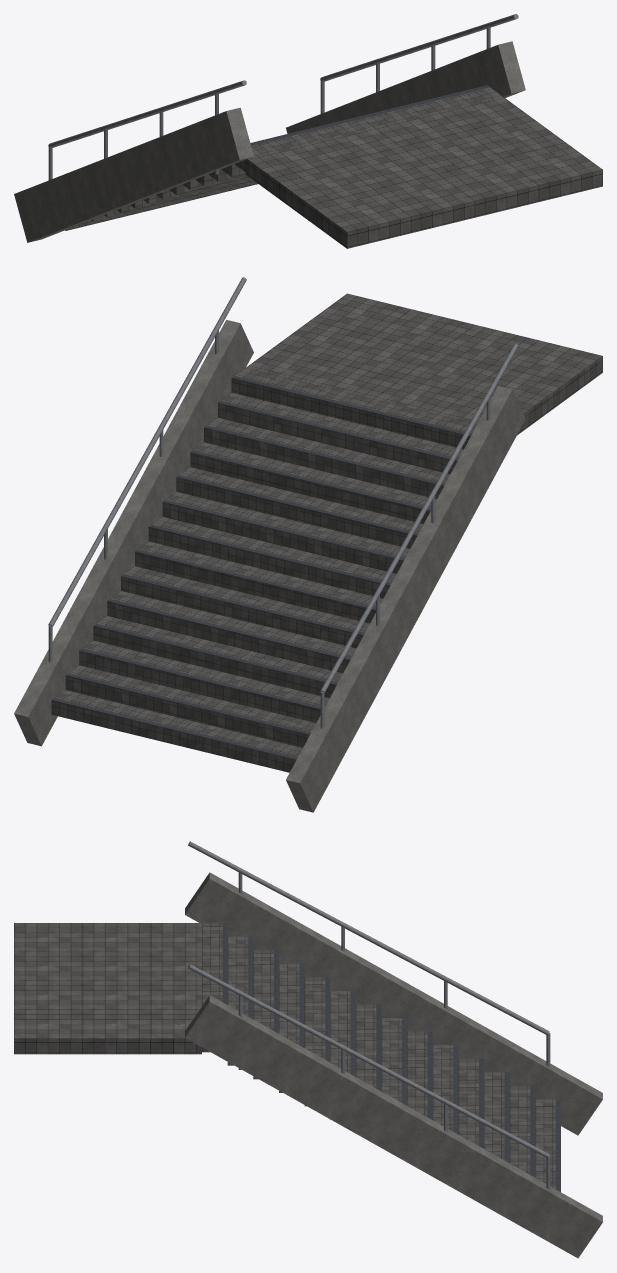
File: stairs.obj
The picture shows the model from 3 angles, top to bottom: view 1: azimuth 30°, elevation 25°; view 2: azimuth 150°, elevation 25°; view 3: azimuth 270°, elevation 25°; orthographic projection. The views are drawn at different scales.
Parts seen in each view (by area): view 1: stairs; view 2: stairs; view 3: stairs.
Boxes of the visible parts, x1,y1,x2,y2 form: stairs: (14, 14, 602, 248); stairs: (14, 277, 602, 812); stairs: (14, 841, 602, 1258).
Bounding box in the file's own units: 3.58 × 3.75 × 6.89.
